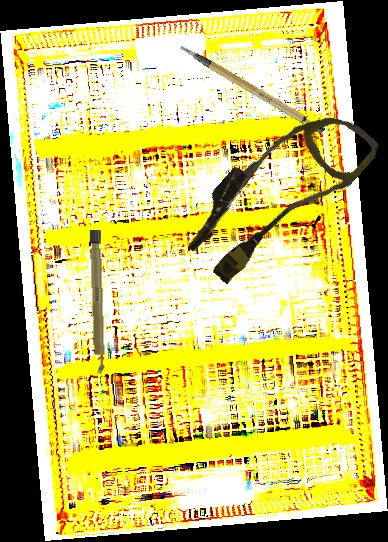Cannula: (172, 82, 384, 302)
Scalpel Handle: (178, 23, 328, 152), (88, 229, 106, 375)
